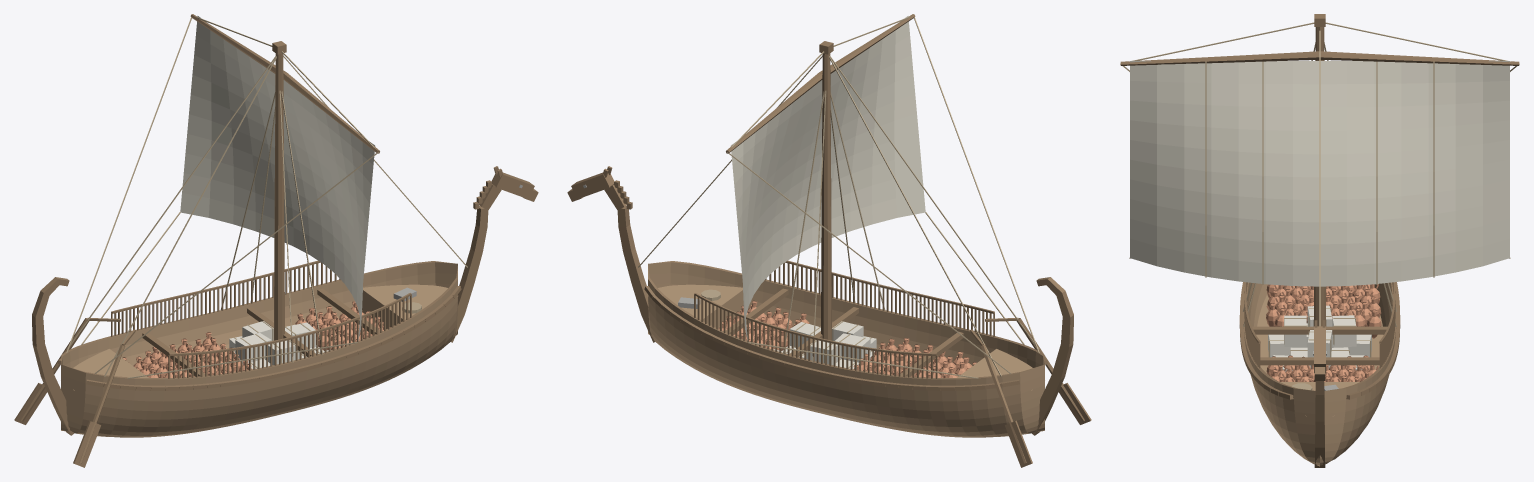
The model's file is ship_cargo.glb.
3 renders of one model, left to right at view 1: azimuth 30°, elevation 25°; view 2: azimuth 150°, elevation 25°; view 3: azimuth 270°, elevation 25°, orthographic. The views are drawn at different scales.
Visible parts, largest first — view 1: Ship; view 2: Ship; view 3: Ship.
Part boxes in pixels (box(x1,y1,x2,y2)): Ship: box(14, 14, 538, 467); Ship: box(567, 14, 1091, 467); Ship: box(1120, 14, 1519, 467).
Size of the model in its own units: 20.26 by 13.85 by 13.04.
